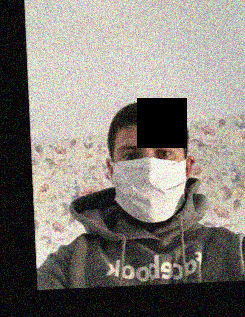with_mask: (111, 135, 188, 222)
